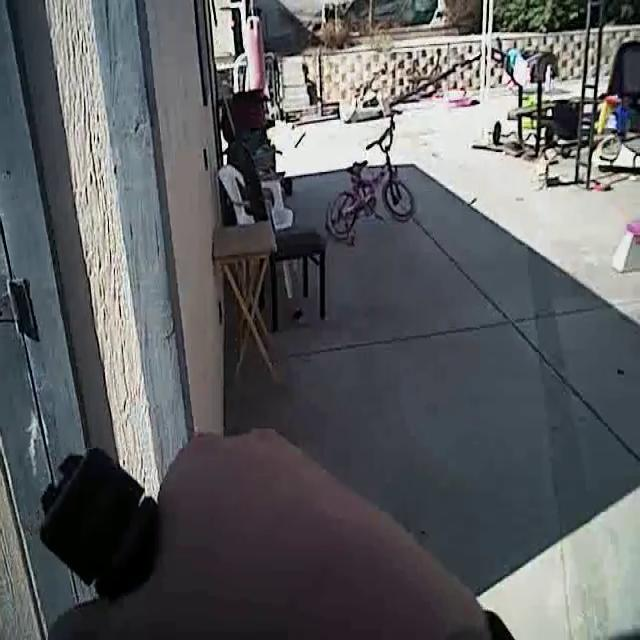gun: (14, 419, 184, 625)
